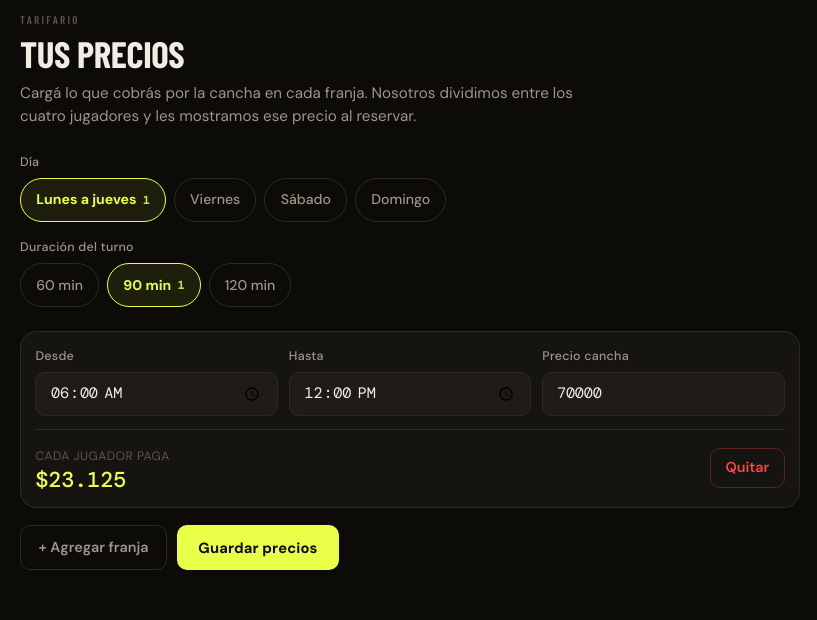
Test case: el aviso de guardado › se limpia al cambiar de duración
Step 1. Click the button "Guardar precios" → [258, 548], box [177,525,339,570]
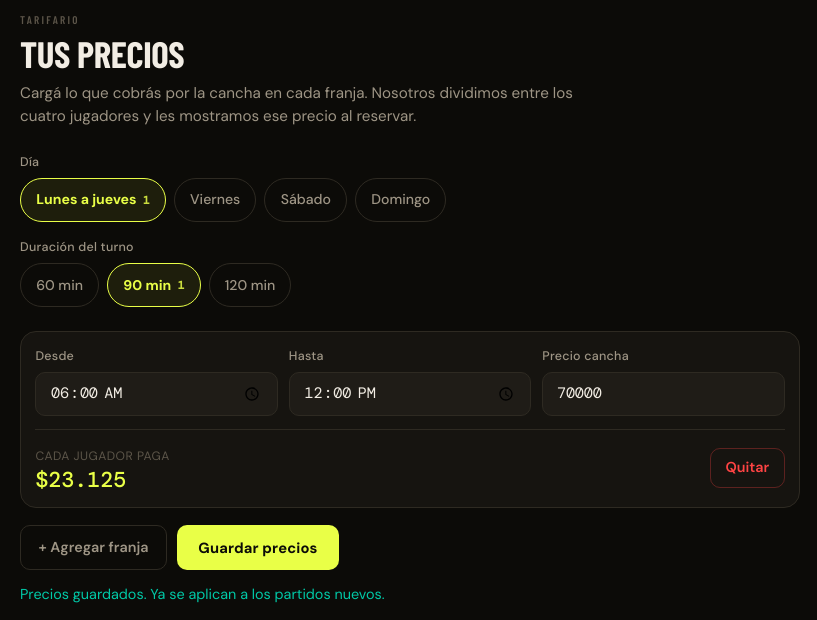
Result: the text "Precios guardados. Ya se aplican a los partidos nuevos." is shown at [20,585,385,603]
Step 2. Click the button "60 min" → [60, 285], box [20,263,99,307]
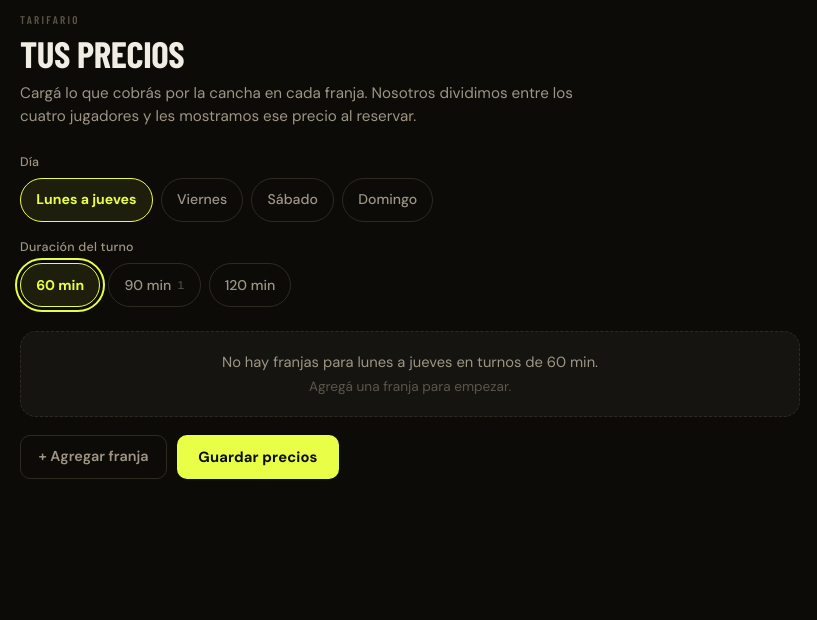
Result: the text "Precios guardados" is gone
